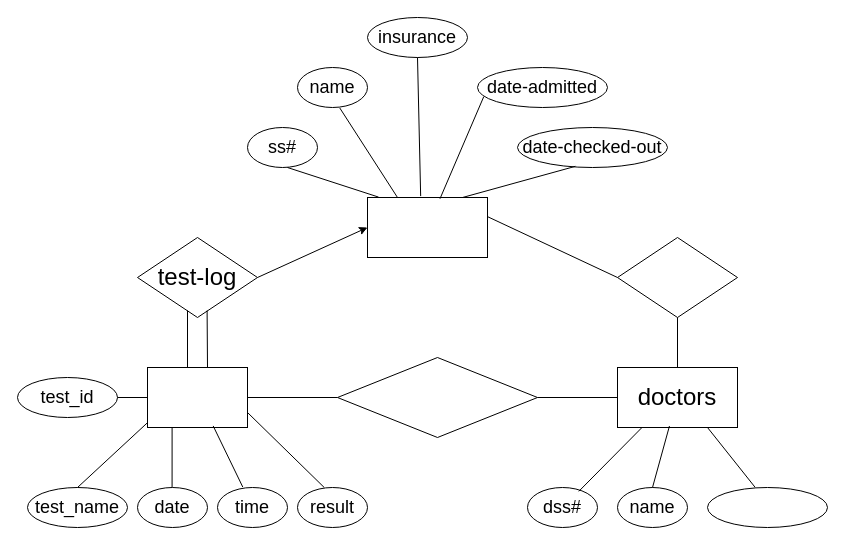
The diagram is 845 pixels wide and 545 high, and some of its shapes have lost their labels. The shapes that lost their labels are listed below. From the top down, each one's centre as x and y in pixels, then its label:
At point (427, 227): "patients".
At point (677, 277): "Dr-Patient".
At point (197, 397): "test".
At point (437, 397): "performed_by".
At point (767, 507): "specialization".
